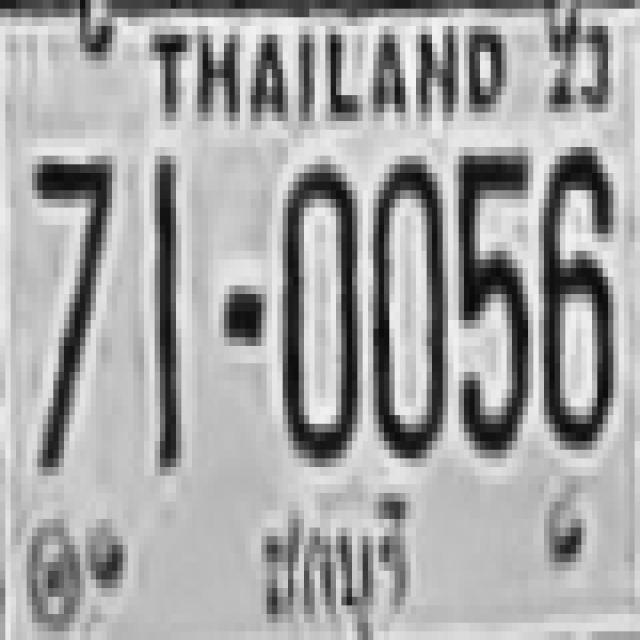0: (278, 156, 358, 458), (368, 147, 443, 450)
1: (152, 151, 179, 463)
5: (456, 147, 525, 450)
6: (539, 138, 608, 441)
7: (30, 147, 110, 467)
Chonburi: (240, 481, 425, 640)
